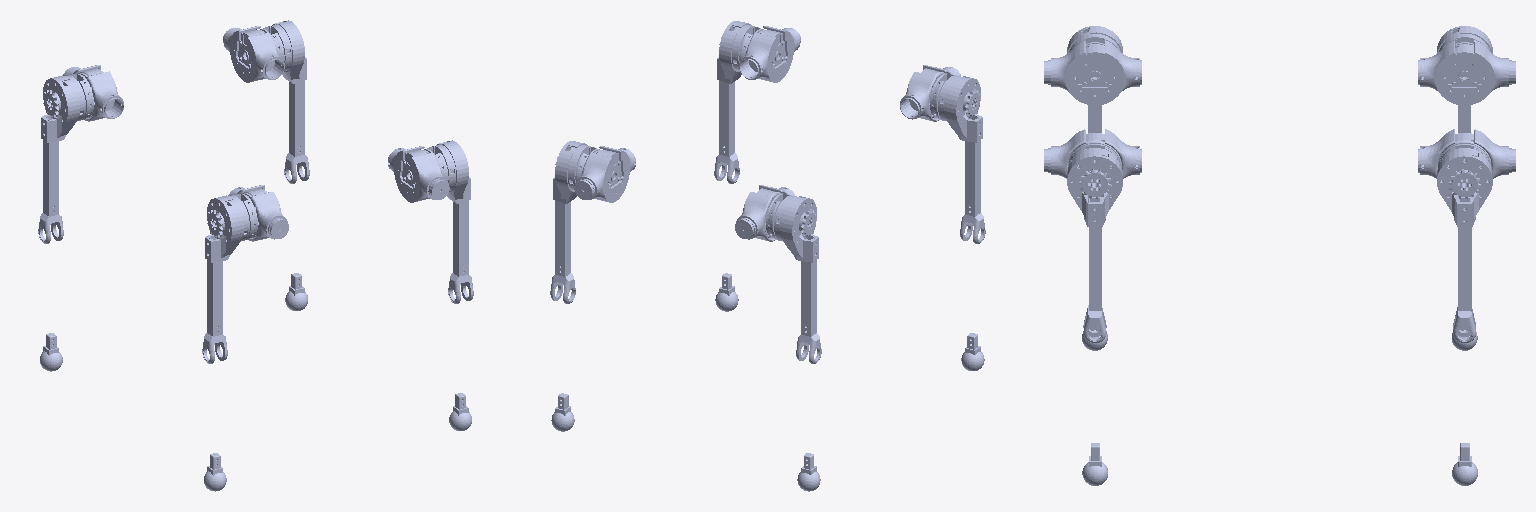
The robot description file, URDF, robot "nuDogv6":
<?xml version="1.0" encoding="utf-8"?>
<!-- This URDF was automatically created by SolidWorks to URDF Exporter! Originally created by [author] ([email redacted]) 
     Commit Version: 1.6.0-4-g7f85cfe  Build Version: 1.6.7995.38578
     For more information, please see http://wiki.ros.org/sw_urdf_exporter -->
<robot
  name="nuDogv6">
  <link
    name="Body">
<!--    <inertial>
      <origin
        xyz="-0.000211548270024517 -0.455924903723439 0.520570759184668"
        rpy="0 0 0" />
      <mass
        value="7.3658966638029" />
      <inertia
        ixx="0.149737913482403"
        ixy="5.4566009501789E-07"
        ixz="-8.98208147226468E-13"
        iyy="0.0402457604729162"
        iyz="6.61238000992775E-11"
        izz="0.174510484060074" />
    </inertial>
  -->  <visual>
      <origin
        xyz="0 0 0"
        rpy="0 0 0" />
      <geometry>
        <mesh
          filename="package://nuDogv6/meshes/Body.STL" />
      </geometry>
      <material
        name="">
        <color
          rgba="0.898039215686275 0.92156862745098 0.929411764705882 1" />
      </material>
    </visual>
    <collision>
      <origin
        xyz="0 0 0"
        rpy="0 0 0" />
      <geometry>
        <mesh
          filename="package://nuDogv6/meshes/Body.STL" />
      </geometry>
    </collision>
  </link>
  <link
    name="FR_1">
    <inertial>
      <origin
        xyz="-0.0966409614939924 -0.00092652871580623 -0.00199755966138084"
        rpy="0 0 0" />
      <mass
        value="0.555831049727415" />
      <inertia
        ixx="0.000517471328500522"
        ixy="1.30651234728158E-05"
        ixz="1.88139667336094E-05"
        iyy="0.00142784729581039"
        iyz="-2.61322353699576E-06"
        izz="0.00108178759053029" />
    </inertial>
    <visual>
      <origin
        xyz="0 0 0"
        rpy="0 0 0" />
      <geometry>
        <mesh
          filename="package://nuDogv6/meshes/FR_1.STL" />
      </geometry>
      <material
        name="">
        <color
          rgba="0.792156862745098 0.819607843137255 0.933333333333333 1" />
      </material>
    </visual>
    <collision>
      <origin
        xyz="0 0 0"
        rpy="0 0 0" />
      <geometry>
        <mesh
          filename="package://nuDogv6/meshes/FR_1.STL" />
      </geometry>
    </collision>
  </link>
  <joint
    name="FR_Ad"
    type="revolute">
    <origin
      xyz="0.2 -0.19035 0.52"
      rpy="0 0 -1.5708" />
    <parent
      link="Body" />
    <child
      link="FR_1" />
    <axis
      xyz="1 0 0" />
    <limit
      lower="-5"
      upper="5"
      effort="5"
      velocity="5" />
  </joint>
  <link
    name="FR_2">
    <inertial>
      <origin
        xyz="5.81463813074806E-05 0.0372579060064524 -0.0440057362809116"
        rpy="0 0 0" />
      <mass
        value="0.955322690779101" />
      <inertia
        ixx="0.00135382463322311"
        ixy="2.40549276637862E-07"
        ixz="-1.30902180553742E-06"
        iyy="0.00173666668372863"
        iyz="1.02515334146085E-05"
        izz="0.000526624906422333" />
    </inertial>
    <visual>
      <origin
        xyz="0 0 0"
        rpy="0 0 0" />
      <geometry>
        <mesh
          filename="package://nuDogv6/meshes/FR_2.STL" />
      </geometry>
      <material
        name="">
        <color
          rgba="0.792156862745098 0.819607843137255 0.933333333333333 1" />
      </material>
    </visual>
    <collision>
      <origin
        xyz="0 0 0"
        rpy="0 0 0" />
      <geometry>
        <mesh
          filename="package://nuDogv6/meshes/FR_2.STL" />
      </geometry>
    </collision>
  </link>
  <joint
    name="FR_Hip"
    type="revolute">
    <origin
      xyz="-0.087 0.04635 0"
      rpy="0 0 0" />
    <parent
      link="FR_1" />
    <child
      link="FR_2" />
    <axis
      xyz="0 1 0" />
    <limit
      lower="-5"
      upper="5"
      effort="5"
      velocity="5" />
  </joint>
  <link
    name="FR_3">
    <inertial>
      <origin
        xyz="-0.00219267056994654 -0.0292079279218723 -0.0840068646168993"
        rpy="0 0 0" />
      <mass
        value="0.343745471195329" />
      <inertia
        ixx="0.000820436232498093"
        ixy="-2.63187495677138E-10"
        ixz="-7.02033420128806E-10"
        iyy="0.000845273980989468"
        iyz="3.31672239367909E-10"
        izz="6.00811902101851E-05" />
    </inertial>
    <visual>
      <origin
        xyz="0 0 0"
        rpy="0 0 0" />
      <geometry>
        <mesh
          filename="package://nuDogv6/meshes/FR_3.STL" />
      </geometry>
      <material
        name="">
        <color
          rgba="0.647058823529412 0.619607843137255 0.588235294117647 1" />
      </material>
    </visual>
    <collision>
      <origin
        xyz="0 0 0"
        rpy="0 0 0" />
      <geometry>
        <mesh
          filename="package://nuDogv6/meshes/FR_3.STL" />
      </geometry>
    </collision>
  </link>
  <joint
    name="FR_Knee"
    type="revolute">
    <origin
      xyz="0.002279 0.089024 -0.3055"
      rpy="0 0 0" />
    <parent
      link="FR_2" />
    <child
      link="FR_3" />
    <axis
      xyz="0 1 0" />
    <limit
      lower="-5"
      upper="5"
      effort="5"
      velocity="5" />
  </joint>
  <link
    name="FR_F">
    <inertial>
      <origin
        xyz="0 -5.55111512312578E-17 0.00908903172798536"
        rpy="0 0 0" />
      <mass
        value="0.0795066908433816" />
      <inertia
        ixx="3.6051507112722E-05"
        ixy="1.26933505587961E-21"
        ixz="2.31568806981652E-21"
        iyy="3.60278364502836E-05"
        iyz="-4.49769709525602E-21"
        izz="1.74581184916402E-05" />
    </inertial>
    <visual>
      <origin
        xyz="0 0 0"
        rpy="0 0 0" />
      <geometry>
        <mesh
          filename="package://nuDogv6/meshes/FR_F.STL" />
      </geometry>
      <material
        name="">
        <color
          rgba="0.792156862745098 0.819607843137255 0.933333333333333 1" />
      </material>
    </visual>
    <collision>
      <origin
        xyz="0 0 0"
        rpy="0 0 0" />
      <geometry>
        <mesh
          filename="package://nuDogv6/meshes/FR_F.STL" />
      </geometry>
    </collision>
  </link>
  <joint
    name="FR_Ank"
    type="fixed">
    <origin
      xyz="-0.002679 -0.029112 -0.30696"
      rpy="0 0 0" />
    <parent
      link="FR_3" />
    <child
      link="FR_F" />
    <axis
      xyz="0 0 0" />
  </joint>
  <link
    name="FL_1">
    <inertial>
      <origin
        xyz="-0.0967393972118638 0.000926541484217031 -0.00199756778760267"
        rpy="0 0 0" />
      <mass
        value="0.555829934213579" />
      <inertia
        ixx="0.000517470888264942"
        ixy="-1.34557888211724E-05"
        ixz="1.89099545530415E-05"
        iyy="0.00142784443930778"
        iyz="2.61316343241059E-06"
        izz="0.00108178897095405" />
    </inertial>
    <visual>
      <origin
        xyz="0 0 0"
        rpy="0 0 0" />
      <geometry>
        <mesh
          filename="package://nuDogv6/meshes/FL_1.STL" />
      </geometry>
      <material
        name="">
        <color
          rgba="0.792156862745098 0.819607843137255 0.933333333333333 1" />
      </material>
    </visual>
    <collision>
      <origin
        xyz="0 0 0"
        rpy="0 0 0" />
      <geometry>
        <mesh
          filename="package://nuDogv6/meshes/FL_1.STL" />
      </geometry>
    </collision>
  </link>
  <joint
    name="FL_Ad"
    type="revolute">
    <origin
      xyz="-0.2 -0.19035 0.52"
      rpy="0 0 -1.5708" />
    <parent
      link="Body" />
    <child
      link="FL_1" />
    <axis
      xyz="1 0 0" />
    <limit
      lower="-5"
      upper="5"
      effort="5"
      velocity="5" />
  </joint>
  <link
    name="FL_2">
    <inertial>
      <origin
        xyz="-5.81457989127093E-05 -0.0372579050307496 -0.0440057423429025"
        rpy="0 0 0" />
      <mass
        value="0.95532258679353" />
      <inertia
        ixx="0.00135382460982778"
        ixy="2.40547375722133E-07"
        ixz="1.30901613565249E-06"
        iyy="0.00173666666102497"
        iyz="-1.02515223942036E-05"
        izz="0.000526624901498985" />
    </inertial>
    <visual>
      <origin
        xyz="0 0 0"
        rpy="0 0 0" />
      <geometry>
        <mesh
          filename="package://nuDogv6/meshes/FL_2.STL" />
      </geometry>
      <material
        name="">
        <color
          rgba="0.792156862745098 0.819607843137255 0.933333333333333 1" />
      </material>
    </visual>
    <collision>
      <origin
        xyz="0 0 0"
        rpy="0 0 0" />
      <geometry>
        <mesh
          filename="package://nuDogv6/meshes/FL_2.STL" />
      </geometry>
    </collision>
  </link>
  <joint
    name="FL_Hip"
    type="revolute">
    <origin
      xyz="-0.087 -0.04635 0"
      rpy="0 0 0" />
    <parent
      link="FL_1" />
    <child
      link="FL_2" />
    <axis
      xyz="0 1 0" />
    <limit
      lower="-5"
      upper="5"
      effort="5"
      velocity="5" />
  </joint>
  <link
    name="FL_3">
    <inertial>
      <origin
        xyz="-0.00236534514654632 -0.641540072077353 -0.0840068629159584"
        rpy="0 0 0" />
      <mass
        value="0.343745471145017" />
      <inertia
        ixx="0.000820436232454408"
        ixy="-2.64441127911884E-10"
        ixz="7.02124372057975E-10"
        iyy="0.000845273980971351"
        iyz="-3.2333683140782E-10"
        izz="6.00811902369714E-05" />
    </inertial>
    <visual>
      <origin
        xyz="0 0 0"
        rpy="0 0 0" />
      <geometry>
        <mesh
          filename="package://nuDogv6/meshes/FL_3.STL" />
      </geometry>
      <material
        name="">
        <color
          rgba="0.192156862745098 0.203921568627451 0.203921568627451 1" />
      </material>
    </visual>
    <collision>
      <origin
        xyz="0 0 0"
        rpy="0 0 0" />
      <geometry>
        <mesh
          filename="package://nuDogv6/meshes/FL_3.STL" />
      </geometry>
    </collision>
  </link>
  <joint
    name="FL_Knee"
    type="revolute">
    <origin
      xyz="0.002279 0.58172 -0.3055"
      rpy="0 0 0" />
    <parent
      link="FL_2" />
    <child
      link="FL_3" />
    <axis
      xyz="0 1 0" />
    <limit
      lower="-5"
      upper="5"
      effort="5"
      velocity="5" />
  </joint>
  <link
    name="FL_F">
    <inertial>
      <origin
        xyz="2.77555756156289E-16 -5.55111512312578E-17 0.00908903172798525"
        rpy="0 0 0" />
      <mass
        value="0.0795066908433817" />
      <inertia
        ixx="3.60515071127221E-05"
        ixy="-2.52615659684742E-21"
        ixz="-5.48010711639832E-19"
        iyy="3.60278364502837E-05"
        iyz="1.91845975460051E-20"
        izz="1.74581184916402E-05" />
    </inertial>
    <visual>
      <origin
        xyz="0 0 0"
        rpy="0 0 0" />
      <geometry>
        <mesh
          filename="package://nuDogv6/meshes/FL_F.STL" />
      </geometry>
      <material
        name="">
        <color
          rgba="0.792156862745098 0.819607843137255 0.933333333333333 1" />
      </material>
    </visual>
    <collision>
      <origin
        xyz="0 0 0"
        rpy="0 0 0" />
      <geometry>
        <mesh
          filename="package://nuDogv6/meshes/FL_F.STL" />
      </geometry>
    </collision>
  </link>
  <joint
    name="FL_Ank"
    type="fixed">
    <origin
      xyz="-0.00187901353150022 -0.641635499999994 -0.306958515898266"
      rpy="0 0 0" />
    <parent
      link="FL_3" />
    <child
      link="FL_F" />
    <axis
      xyz="0 0 0" />
  </joint>
  <link
    name="BR_1">
    <inertial>
      <origin
        xyz="0.0967393972118642 -0.000926541484217086 -0.00199756778760245"
        rpy="0 0 0" />
      <mass
        value="0.55582993421358" />
      <inertia
        ixx="0.000517470888264942"
        ixy="-1.34557888211724E-05"
        ixz="-1.89099545530413E-05"
        iyy="0.00142784443930778"
        iyz="-2.61316343241065E-06"
        izz="0.00108178897095405" />
    </inertial>
    <visual>
      <origin
        xyz="0 0 0"
        rpy="0 0 0" />
      <geometry>
        <mesh
          filename="package://nuDogv6/meshes/BR_1.STL" />
      </geometry>
      <material
        name="">
        <color
          rgba="0.792156862745098 0.819607843137255 0.933333333333333 1" />
      </material>
    </visual>
    <collision>
      <origin
        xyz="0 0 0"
        rpy="0 0 0" />
      <geometry>
        <mesh
          filename="package://nuDogv6/meshes/BR_1.STL" />
      </geometry>
    </collision>
  </link>
  <joint
    name="BR_Ad"
    type="revolute">
    <origin
      xyz="0.2 -0.72405 0.52"
      rpy="0 0 -1.5708" />
    <parent
      link="Body" />
    <child
      link="BR_1" />
    <axis
      xyz="1 0 0" />
    <limit
      lower="-5"
      upper="5"
      effort="5"
      velocity="5" />
  </joint>
  <link
    name="BR_2">
    <inertial>
      <origin
        xyz="5.81461943445216E-05 0.0372579044894271 -0.0440057435331936"
        rpy="0 0 0" />
      <mass
        value="0.955322554598998" />
      <inertia
        ixx="0.00135382460653267"
        ixy="2.40548192964037E-07"
        ixz="-1.3090174102698E-06"
        iyy="0.00173666665883878"
        iyz="1.02515233497371E-05"
        izz="0.000526624896799295" />
    </inertial>
    <visual>
      <origin
        xyz="0 0 0"
        rpy="0 0 0" />
      <geometry>
        <mesh
          filename="package://nuDogv6/meshes/BR_2.STL" />
      </geometry>
      <material
        name="">
        <color
          rgba="0.792156862745098 0.819607843137255 0.933333333333333 1" />
      </material>
    </visual>
    <collision>
      <origin
        xyz="0 0 0"
        rpy="0 0 0" />
      <geometry>
        <mesh
          filename="package://nuDogv6/meshes/BR_2.STL" />
      </geometry>
    </collision>
  </link>
  <joint
    name="BR_Hip"
    type="revolute">
    <origin
      xyz="0.087 0.04635 0"
      rpy="0 0 0" />
    <parent
      link="BR_1" />
    <child
      link="BR_2" />
    <axis
      xyz="0 1 0" />
    <limit
      lower="-5"
      upper="5"
      effort="5"
      velocity="5" />
  </joint>
  <link
    name="BR_3">
    <inertial>
      <origin
        xyz="-0.00216310580978896 -0.0288985313659216 -0.0828567968449873"
        rpy="0 0 0" />
      <mass
        value="0.343745471154525" />
      <inertia
        ixx="0.000820436232500881"
        ixy="-2.63187347861388E-10"
        ixz="-7.02034865420379E-10"
        iyy="0.00084527398098969"
        iyz="3.31671934273074E-10"
        izz="6.00811902075226E-05" />
    </inertial>
    <visual>
      <origin
        xyz="0 0 0"
        rpy="0 0 0" />
      <geometry>
        <mesh
          filename="package://nuDogv6/meshes/BR_3.STL" />
      </geometry>
      <material
        name="">
        <color
          rgba="0.647058823529412 0.619607843137255 0.588235294117647 1" />
      </material>
    </visual>
    <collision>
      <origin
        xyz="0 0 0"
        rpy="0 0 0" />
      <geometry>
        <mesh
          filename="package://nuDogv6/meshes/BR_3.STL" />
      </geometry>
    </collision>
  </link>
  <joint
    name="BR_Knee"
    type="revolute">
    <origin
      xyz="0.0022494 0.088715 -0.30665"
      rpy="0 0 0" />
    <parent
      link="BR_2" />
    <child
      link="BR_3" />
    <axis
      xyz="0 1 0" />
    <limit
      lower="-5"
      upper="5"
      effort="5"
      velocity="5" />
  </joint>
  <link
    name="BR_F">
    <inertial>
      <origin
        xyz="0 -5.55111512312578E-17 0.00908903172798536"
        rpy="0 0 0" />
      <mass
        value="0.0795066908433816" />
      <inertia
        ixx="3.6051507112722E-05"
        ixy="4.07169749404491E-21"
        ixz="4.68978553204609E-21"
        iyy="3.60278364502836E-05"
        iyz="4.82829595830121E-21"
        izz="1.74581184916402E-05" />
    </inertial>
    <visual>
      <origin
        xyz="0 0 0"
        rpy="0 0 0" />
      <geometry>
        <mesh
          filename="package://nuDogv6/meshes/BR_F.STL" />
      </geometry>
      <material
        name="">
        <color
          rgba="0.792156862745098 0.819607843137255 0.933333333333333 1" />
      </material>
    </visual>
    <collision>
      <origin
        xyz="0 0 0"
        rpy="0 0 0" />
      <geometry>
        <mesh
          filename="package://nuDogv6/meshes/BR_F.STL" />
      </geometry>
    </collision>
  </link>
  <joint
    name="BR_Ank"
    type="fixed">
    <origin
      xyz="-0.00264944876959738 -0.0288031034448313 -0.30580844811589"
      rpy="0 0 0" />
    <parent
      link="BR_3" />
    <child
      link="BR_F" />
    <axis
      xyz="0 0 0" />
  </joint>
  <link
    name="BL_1">
    <inertial>
      <origin
        xyz="0.0966409614939927 0.000926528715806146 -0.00199755966138066"
        rpy="0 0 0" />
      <mass
        value="0.555831049727418" />
      <inertia
        ixx="0.000517471328500525"
        ixy="1.30651234728157E-05"
        ixz="-1.88139667336106E-05"
        iyy="0.0014278472958104"
        iyz="2.61322353699524E-06"
        izz="0.0010817875905303" />
    </inertial>
    <visual>
      <origin
        xyz="0 0 0"
        rpy="0 0 0" />
      <geometry>
        <mesh
          filename="package://nuDogv6/meshes/BL_1.STL" />
      </geometry>
      <material
        name="">
        <color
          rgba="0.792156862745098 0.819607843137255 0.933333333333333 1" />
      </material>
    </visual>
    <collision>
      <origin
        xyz="0 0 0"
        rpy="0 0 0" />
      <geometry>
        <mesh
          filename="package://nuDogv6/meshes/BL_1.STL" />
      </geometry>
    </collision>
  </link>
  <joint
    name="BL_Ad"
    type="revolute">
    <origin
      xyz="-0.2 -0.72405 0.52"
      rpy="0 0 -1.5708" />
    <parent
      link="Body" />
    <child
      link="BL_1" />
    <axis
      xyz="1 0 0" />
    <limit
      lower="-5"
      upper="5"
      effort="5"
      velocity="5" />
  </joint>
  <link
    name="BL_2">
    <inertial>
      <origin
        xyz="-5.81457906760896E-05 -0.037257904737137 -0.044005743574709"
        rpy="0 0 0" />
      <mass
        value="0.955322567136384" />
      <inertia
        ixx="0.00135382460838233"
        ixy="2.40547213632294E-07"
        ixz="1.30901540297894E-06"
        iyy="0.00173666665936499"
        iyz="-1.02515223830775E-05"
        izz="0.000526624901311548" />
    </inertial>
    <visual>
      <origin
        xyz="0 0 0"
        rpy="0 0 0" />
      <geometry>
        <mesh
          filename="package://nuDogv6/meshes/BL_2.STL" />
      </geometry>
      <material
        name="">
        <color
          rgba="0.792156862745098 0.819607843137255 0.933333333333333 1" />
      </material>
    </visual>
    <collision>
      <origin
        xyz="0 0 0"
        rpy="0 0 0" />
      <geometry>
        <mesh
          filename="package://nuDogv6/meshes/BL_2.STL" />
      </geometry>
    </collision>
  </link>
  <joint
    name="BL_Hip"
    type="revolute">
    <origin
      xyz="0.087 -0.04635 0"
      rpy="0 0 0" />
    <parent
      link="BL_1" />
    <child
      link="BL_2" />
    <axis
      xyz="0 1 0" />
    <limit
      lower="-5"
      upper="5"
      effort="5"
      velocity="5" />
  </joint>
  <link
    name="BL_3">
    <inertial>
      <origin
        xyz="0.00247230675800469 0.0292079279148152 -0.0828445925712516"
        rpy="0 0 0" />
      <mass
        value="0.34374547124735" />
      <inertia
        ixx="0.000820436232471936"
        ixy="-2.644426577013E-10"
        ixz="7.02123149864262E-10"
        iyy="0.000845273980989403"
        iyz="-3.23337732521285E-10"
        izz="6.00811902371145E-05" />
    </inertial>
    <visual>
      <origin
        xyz="0 0 0"
        rpy="0 0 0" />
      <geometry>
        <mesh
          filename="package://nuDogv6/meshes/BL_3.STL" />
      </geometry>
      <material
        name="">
        <color
          rgba="0.192156862745098 0.203921568627451 0.203921568627451 1" />
      </material>
    </visual>
    <collision>
      <origin
        xyz="0 0 0"
        rpy="0 0 0" />
      <geometry>
        <mesh
          filename="package://nuDogv6/meshes/BL_3.STL" />
      </geometry>
    </collision>
  </link>
  <joint
    name="BL_Knee"
    type="revolute">
    <origin
      xyz="-0.0025586 -0.089024 -0.30666"
      rpy="0 0 0" />
    <parent
      link="BL_2" />
    <child
      link="BL_3" />
    <axis
      xyz="0 1 0" />
    <limit
      lower="-5"
      upper="5"
      effort="5"
      velocity="5" />
  </joint>
  <link
    name="BL_F">
    <inertial>
      <origin
        xyz="1.11022302462516E-16 5.55111512312578E-17 0.00908903172798536"
        rpy="0 0 0" />
      <mass
        value="0.0795066908433817" />
      <inertia
        ixx="3.60515071127221E-05"
        ixy="-5.60983218608841E-21"
        ixz="-5.31880804195034E-19"
        iyy="3.60278364502837E-05"
        iyz="-1.17679964786894E-21"
        izz="1.74581184916402E-05" />
    </inertial>
    <visual>
      <origin
        xyz="0 0 0"
        rpy="0 0 0" />
      <geometry>
        <mesh
          filename="package://nuDogv6/meshes/BL_F.STL" />
      </geometry>
      <material
        name="">
        <color
          rgba="0.792156862745098 0.819607843137255 0.933333333333333 1" />
      </material>
    </visual>
    <collision>
      <origin
        xyz="0 0 0"
        rpy="0 0 0" />
      <geometry>
        <mesh
          filename="package://nuDogv6/meshes/BL_F.STL" />
      </geometry>
    </collision>
  </link>
  <joint
    name="BL_Ank"
    type="fixed">
    <origin
      xyz="0.00295863837265653 0.0291125000000009 -0.305796245573505"
      rpy="0 0 0" />
    <parent
      link="BL_3" />
    <child
      link="BL_F" />
    <axis
      xyz="0 0 0" />
  </joint>
</robot>

--- Render facts (derived) ---
3 views of the same robot in one strip: view 1: azimuth 30°, elevation 25°; view 2: azimuth 150°, elevation 25°; view 3: azimuth 270°, elevation 25° (orthographic).
Model nuDogv6 with 17 links and 16 joints (12 revolute, 4 fixed), rooted at Body, posed all joints at 0.
Visible links, largest first — view 1: FL_2, BL_2, FR_2, BR_2, FR_1, BR_1, BL_1, FL_1, FL_F, FR_F, BR_F, BL_F; view 2: BL_2, FL_2, BR_2, FR_2, BR_1, FR_1, FL_1, BL_1, FR_F, BL_F, FL_F, BR_F; view 3: FR_2, BR_2, BL_1, FL_1, FR_1, BR_1, BL_2, FL_2, FR_F, BR_F.
Link boxes in pixels (x1,y1,x2,y2): FL_2: (38,74,93,243); BL_2: (202,194,257,363); FR_2: (260,20,309,183); BR_2: (424,140,473,303); FR_1: (223,26,284,82); BR_1: (388,146,449,202); BL_1: (228,185,288,241); FL_1: (63,65,123,121); FL_F: (40,333,62,371); FR_F: (285,273,307,310); BR_F: (449,393,471,430); BL_F: (204,453,226,491); BL_2: (930,74,985,243); FL_2: (766,194,821,363); BR_2: (714,21,763,183); FR_2: (550,141,599,303); BR_1: (739,26,800,82); FR_1: (574,146,635,202); FL_1: (735,185,794,241); BL_1: (900,65,960,121); FR_F: (551,393,574,431); BL_F: (961,333,984,370); FL_F: (797,453,820,491); BR_F: (715,273,738,311); FR_2: (1437,144,1492,342); BR_2: (1067,144,1122,342); BL_1: (1044,42,1141,105); FL_1: (1418,42,1515,105); FR_1: (1418,129,1515,178); BR_1: (1044,129,1141,178); BL_2: (1067,26,1122,132); FL_2: (1437,26,1492,132); FR_F: (1452,443,1477,485); BR_F: (1082,443,1107,485).
Size in the robot's own frame: 0.6625 by 0.9017 by 0.689 metres.
12 mesh visuals loaded from 17 distinct referenced files (12 binary STL); not drawn: 5 (reference not matched to a file when rendering).